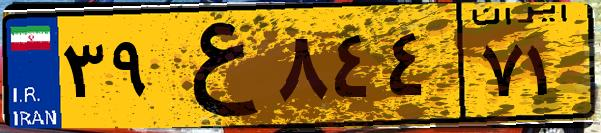1: (525, 38, 570, 115)
3: (57, 26, 110, 100)
4: (385, 28, 445, 110), (330, 28, 385, 110)
7: (475, 38, 525, 113)
8: (270, 28, 330, 110)
9: (110, 28, 158, 98)
ع: (158, 12, 270, 120)
